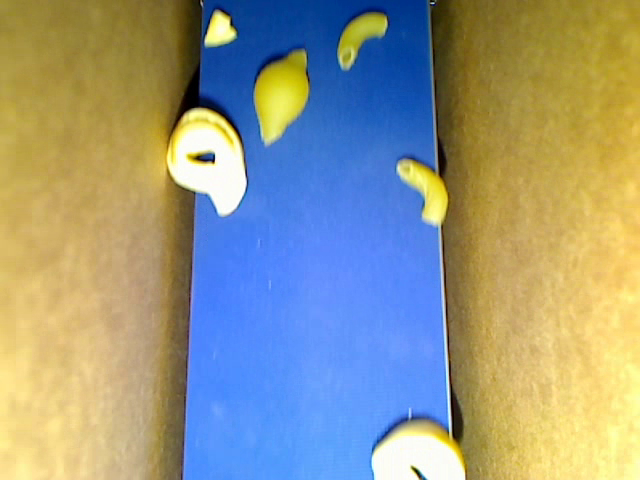elbow: (396, 157, 449, 227), (337, 12, 387, 69)
shell: (254, 48, 308, 144)
tortellini: (166, 107, 247, 217), (370, 418, 466, 479)
